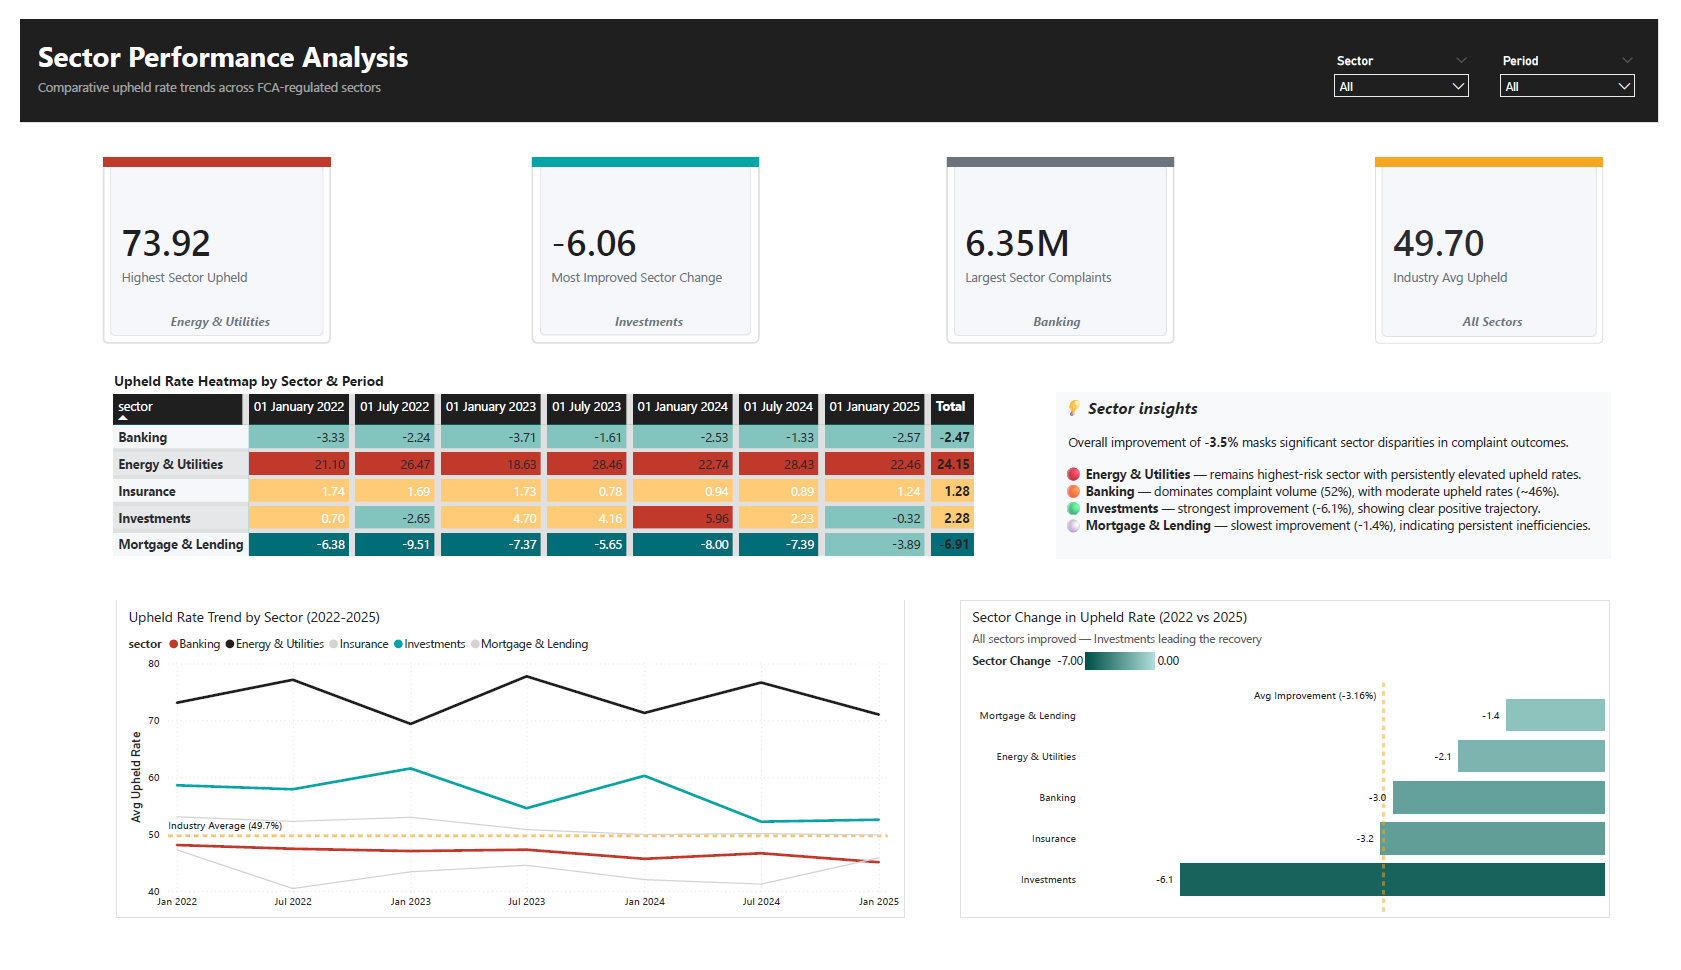

This screenshot's page, from the dashboard's own definition file:
{"tool":"powerbi","page":{"name":"Sector Performance","canvas":[1900,1080],"ordinal":1},"visuals":[{"type":"shape","box":[0,0,1896,120],"z":0},{"type":"textbox","box":[16,16,592,64],"z":1000},{"type":"textbox","box":[16,64,480,40],"z":2000},{"type":"slicer","fields":{"Values":["opened_clean.period"]},"box":[1703.3,36.5,176,64],"z":3000},{"type":"slicer","fields":{"Values":["opened_clean.sector"]},"box":[1511.3,36.5,176,64],"z":4000},{"type":"cardVisual","fields":{"Data":["opened_clean.Highest Sector Upheld"]},"box":[96,160,264,216],"z":5000,"group":"g1"},{"type":"pivotTable","title":"Upheld Rate Heatmap by Sector & Period","fields":{"Rows":["opened_clean.sector"],"Columns":["upheld_clean.period_date"],"Values":["Avg(upheld_clean.upheld_deviation)"]},"box":[96,400,1040,240],"z":5000},{"type":"cardVisual","fields":{"Data":["opened_clean.Most Improved Sector Change"]},"box":[592,160,264,216],"z":6000,"group":"g2"},{"type":"lineChart","title":"Upheld Rate Trend by Sector (2022-2025)","fields":{"Y":["opened_clean.Avg Upheld Rate"],"Series":["upheld_clean.sector"],"Category":["upheld_clean.period_date"]},"box":[112,672,912,368],"z":6000},{"type":"cardVisual","fields":{"Data":["opened_clean.Largest Sector Complaints"]},"box":[1072,160,264,216],"z":7000,"group":"g3"},{"type":"clusteredBarChart","title":"Sector Change in Upheld Rate (2022 vs 2025)","fields":{"Category":["upheld_clean.sector"],"Y":["opened_clean.Sector Change"]},"box":[1088,672,752,368],"z":7000},{"type":"cardVisual","fields":{"Data":["opened_clean.Industry Avg Upheld"]},"box":[1568,160,264,216],"z":8000,"group":"g4"},{"type":"textbox","box":[1200,432,640,192],"z":8000},{"type":"group","id":"g1","title":"Group 1","box":[96,160,272,224],"z":9000},{"type":"shape","box":[1072,160,264,12],"z":9000,"group":"g3"},{"type":"group","id":"g2","title":"Group 2","box":[592,160,256,224],"z":10000},{"type":"shape","box":[1568,160,264,12],"z":10000,"group":"g4"},{"type":"shape","box":[592,160,264,12],"z":11000,"group":"g2"},{"type":"group","id":"g3","title":"Group 3","box":[1072,160,272,224],"z":11000},{"type":"shape","box":[96,160,264,12],"z":12000,"group":"g1"},{"type":"group","id":"g4","title":"Group 4","box":[1568,160,272,208],"z":12000},{"type":"textbox","box":[152,336,160,48],"z":16000,"group":"g1"},{"type":"textbox","box":[648,336,160,48],"z":18000,"group":"g2"},{"type":"textbox","box":[1120,336,160,32],"z":19000,"group":"g3"},{"type":"textbox","box":[1624,336,160,32],"z":20000,"group":"g4"}]}

Visuals, with their boxes in screenshot pixels (x1, y1, x2, y2), scaled from the page's 1900x1080 canvas onto the 1681x970 screenshot:
shape: BBox(0, 0, 1677, 108)
textbox: BBox(14, 14, 538, 72)
textbox: BBox(14, 57, 439, 93)
slicer - opened_clean.period: BBox(1507, 33, 1663, 90)
slicer - opened_clean.sector: BBox(1337, 33, 1493, 90)
cardVisual - opened_clean.Highest Sector Upheld: BBox(85, 144, 319, 338)
"Upheld Rate Heatmap by Sector & Period" pivotTable: BBox(85, 359, 1005, 575)
cardVisual - opened_clean.Most Improved Sector Change: BBox(524, 144, 757, 338)
"Upheld Rate Trend by Sector (2022-2025)" lineChart: BBox(99, 604, 906, 934)
cardVisual - opened_clean.Largest Sector Complaints: BBox(948, 144, 1182, 338)
"Sector Change in Upheld Rate (2022 vs 2025)" clusteredBarChart: BBox(963, 604, 1628, 934)
cardVisual - opened_clean.Industry Avg Upheld: BBox(1387, 144, 1621, 338)
textbox: BBox(1062, 388, 1628, 560)
"Group 1" group: BBox(85, 144, 326, 345)
shape: BBox(948, 144, 1182, 154)
"Group 2" group: BBox(524, 144, 750, 345)
shape: BBox(1387, 144, 1621, 154)
shape: BBox(524, 144, 757, 154)
"Group 3" group: BBox(948, 144, 1189, 345)
shape: BBox(85, 144, 319, 154)
"Group 4" group: BBox(1387, 144, 1628, 331)
textbox: BBox(134, 302, 276, 345)
textbox: BBox(573, 302, 715, 345)
textbox: BBox(991, 302, 1132, 331)
textbox: BBox(1437, 302, 1578, 331)
